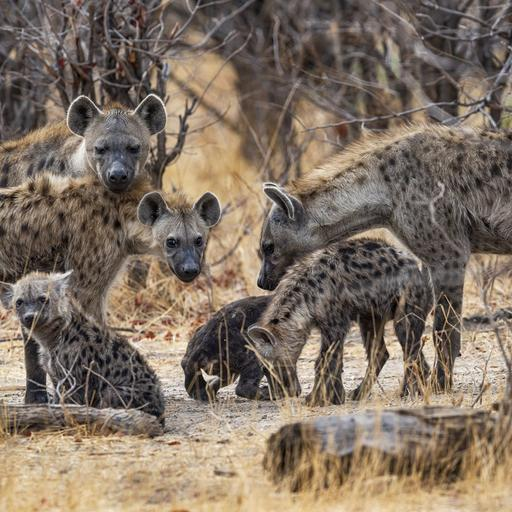Hyena: (255, 116, 512, 392), (0, 170, 226, 370), (0, 91, 173, 350), (246, 233, 438, 412), (5, 262, 176, 428), (178, 270, 362, 408)
